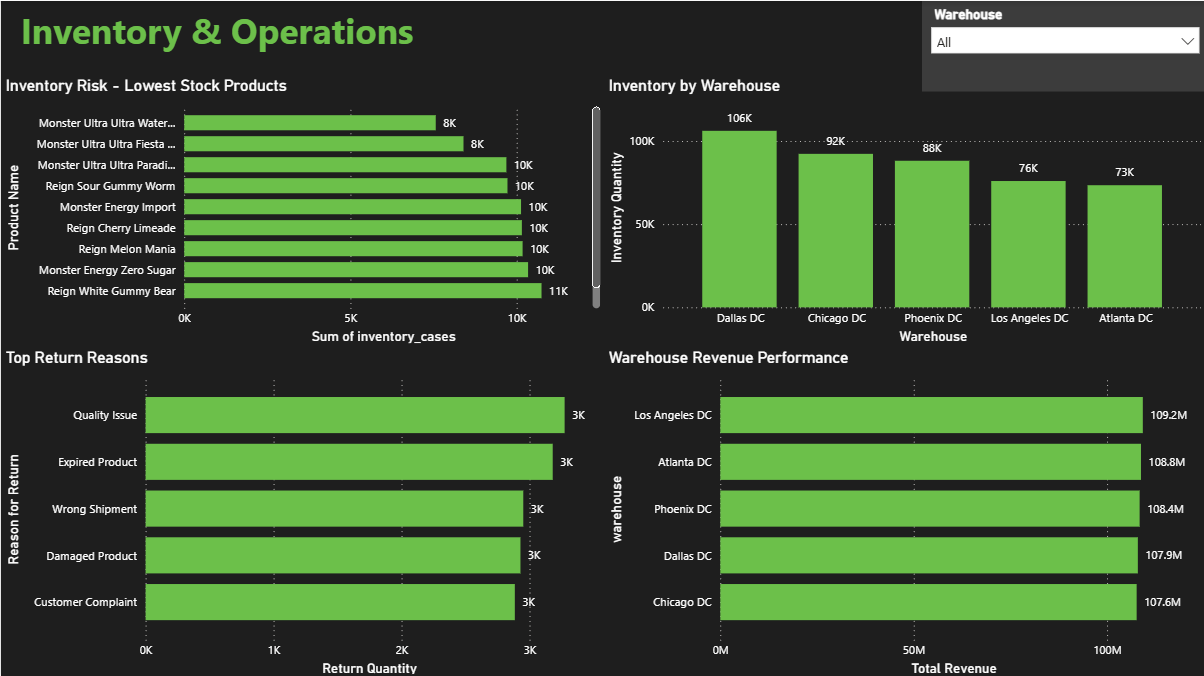

This screenshot's page, from the dashboard's own definition file:
{"tool":"powerbi","page":{"name":"Inventory & Operations","canvas":[1280,720],"ordinal":2},"visuals":[{"type":"textbox","box":[16,0,432,80],"z":0},{"type":"clusteredBarChart","title":"Inventory Risk - Lowest Stock Products","fields":{"Y":["Sum(fact_inventory.inventory_cases)"],"Category":["dim_products.product_name"]},"box":[0,80,640,288],"z":1000},{"type":"clusteredColumnChart","title":"Inventory by Warehouse","fields":{"Category":["fact_inventory.warehouse"],"Y":["Sum(fact_inventory.inventory_cases)"]},"box":[640,80,640,288],"z":1001},{"type":"clusteredBarChart","title":"Top Return Reasons","fields":{"Y":["Sum(fact_returns.return_quantity)"],"Category":["fact_returns.return_reason"]},"box":[0,368,640,352],"z":1002},{"type":"clusteredBarChart","title":"Warehouse Revenue Performance","fields":{"Category":["fact_sales.warehouse"],"Y":["KPI Measures.Total Revenue"]},"box":[640,368,640,352],"z":1003},{"type":"slicer","fields":{"Values":["fact_inventory.warehouse"]},"box":[976,0,304,96],"z":1004}]}

Visuals, with their boxes in screenshot pixels (x1, y1, x2, y2), scaled from the page's 1280x720 canvas onto the 1204x676 screenshot:
textbox: {"x1": 15, "y1": 0, "x2": 421, "y2": 75}
"Inventory Risk - Lowest Stock Products" clusteredBarChart: {"x1": 0, "y1": 75, "x2": 602, "y2": 346}
"Inventory by Warehouse" clusteredColumnChart: {"x1": 602, "y1": 75, "x2": 1203, "y2": 346}
"Top Return Reasons" clusteredBarChart: {"x1": 0, "y1": 346, "x2": 602, "y2": 675}
"Warehouse Revenue Performance" clusteredBarChart: {"x1": 602, "y1": 346, "x2": 1203, "y2": 675}
slicer - fact_inventory.warehouse: {"x1": 918, "y1": 0, "x2": 1203, "y2": 90}
